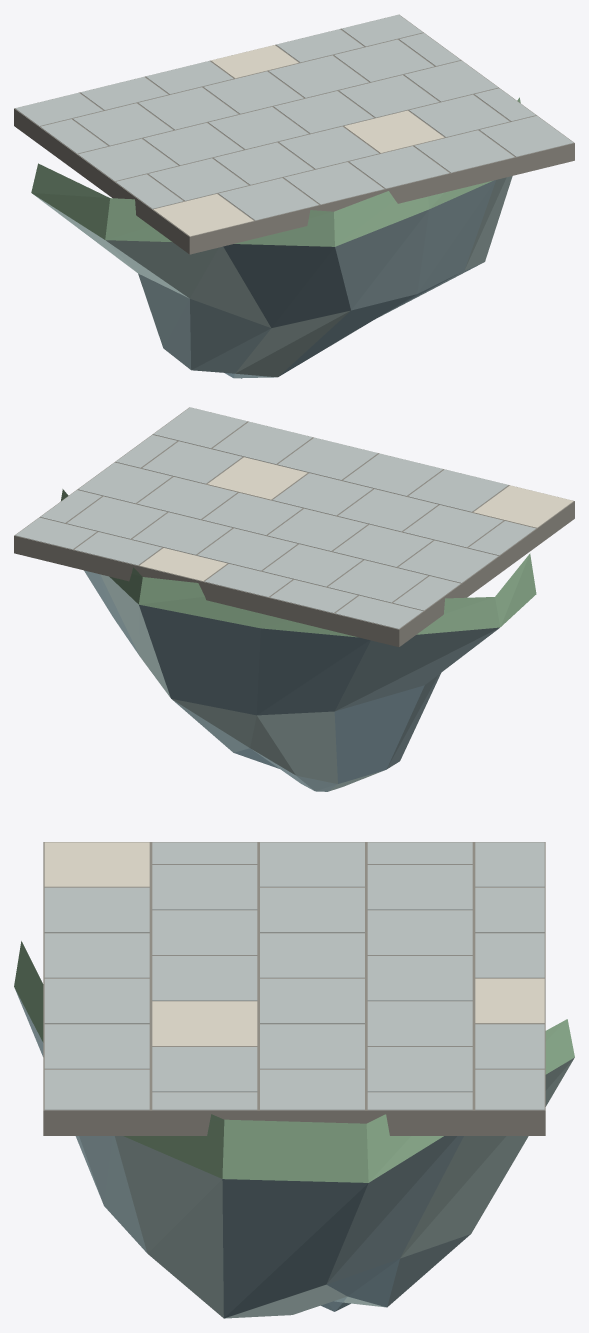
Rendered from FloatingIsland29.glb.
3 renders of one model, top to bottom at view 1: azimuth 30°, elevation 25°; view 2: azimuth 150°, elevation 25°; view 3: azimuth 270°, elevation 25°, orthographic. The views are drawn at different scales.
Parts seen in each view (by area): view 1: FloatingIsland29; view 2: FloatingIsland29; view 3: FloatingIsland29.
Boxes of the visible parts, box(x1,y1,x2,y2) form: FloatingIsland29: box(14, 14, 574, 378); FloatingIsland29: box(14, 407, 574, 791); FloatingIsland29: box(14, 842, 574, 1318).
Size of the model in its own units: 7.19 by 3.91 by 5.47.
